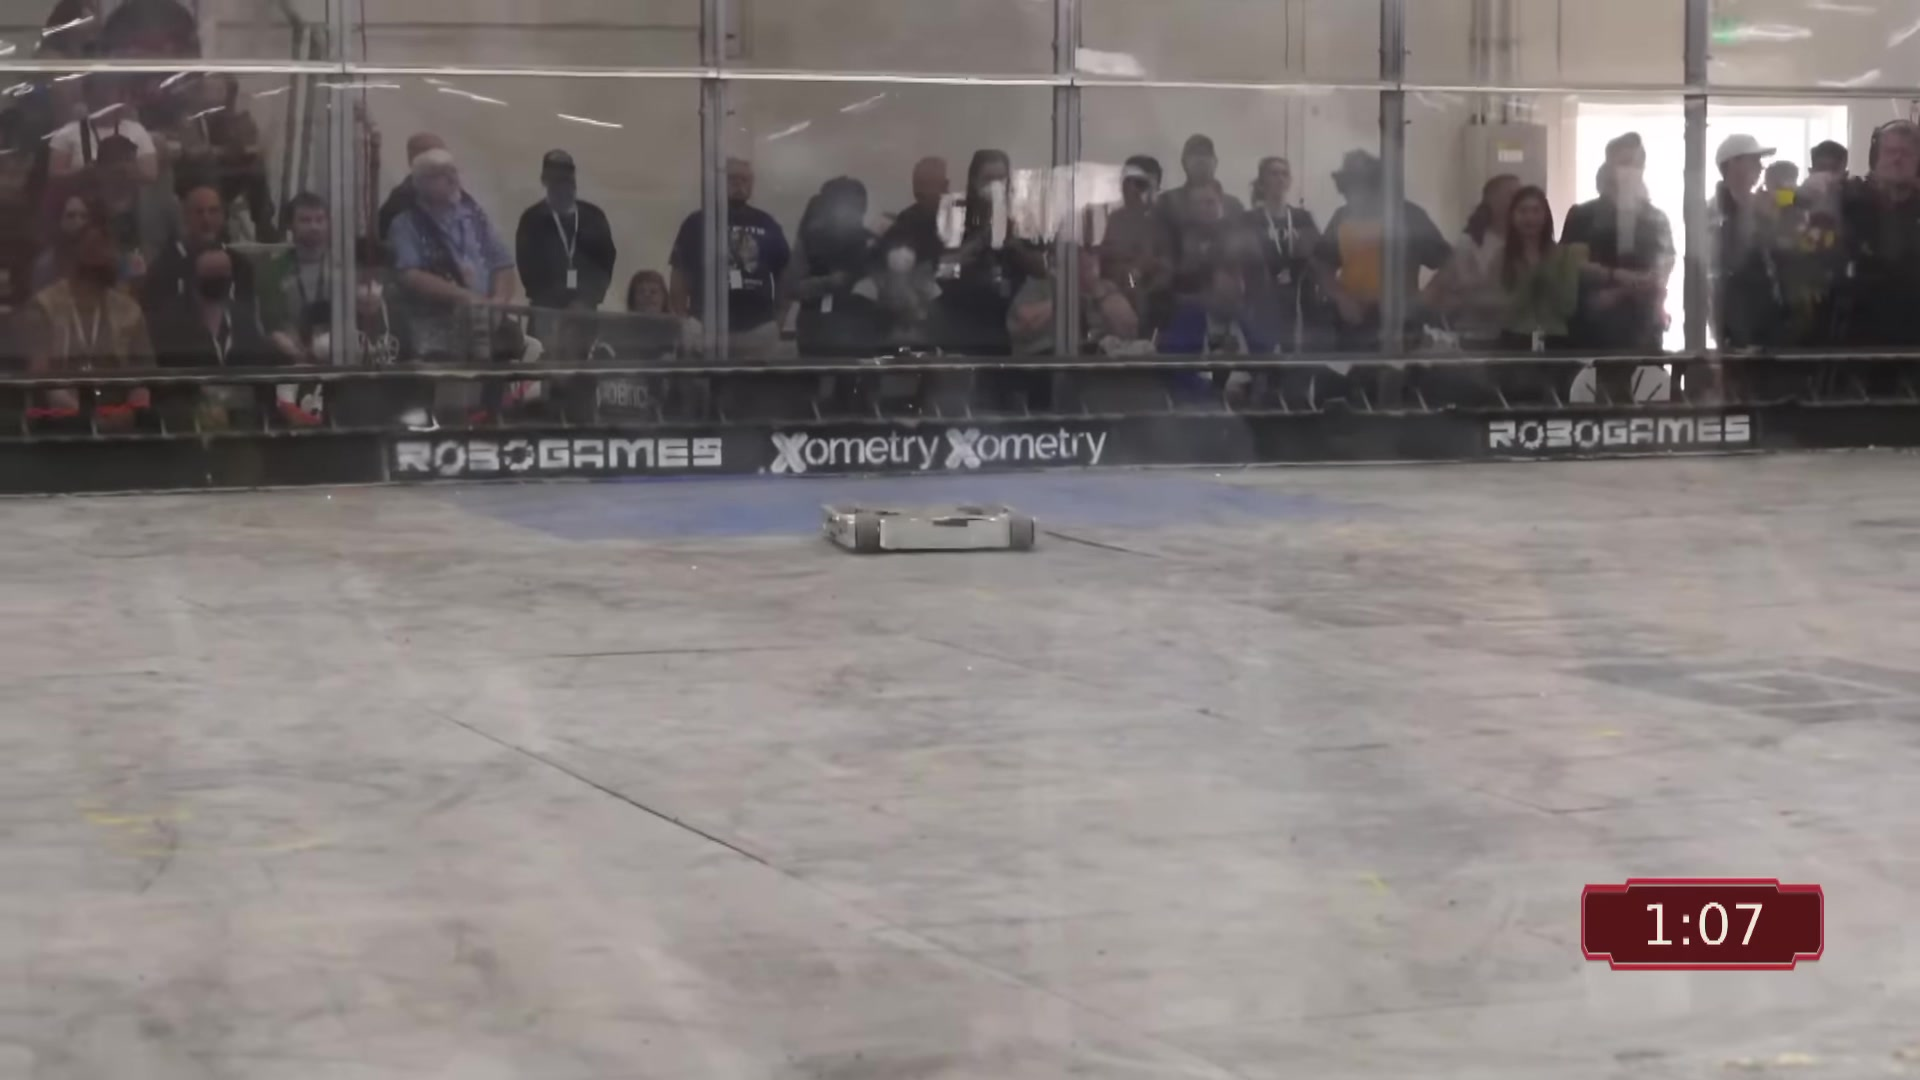combatbot: (823, 497, 1042, 558)
